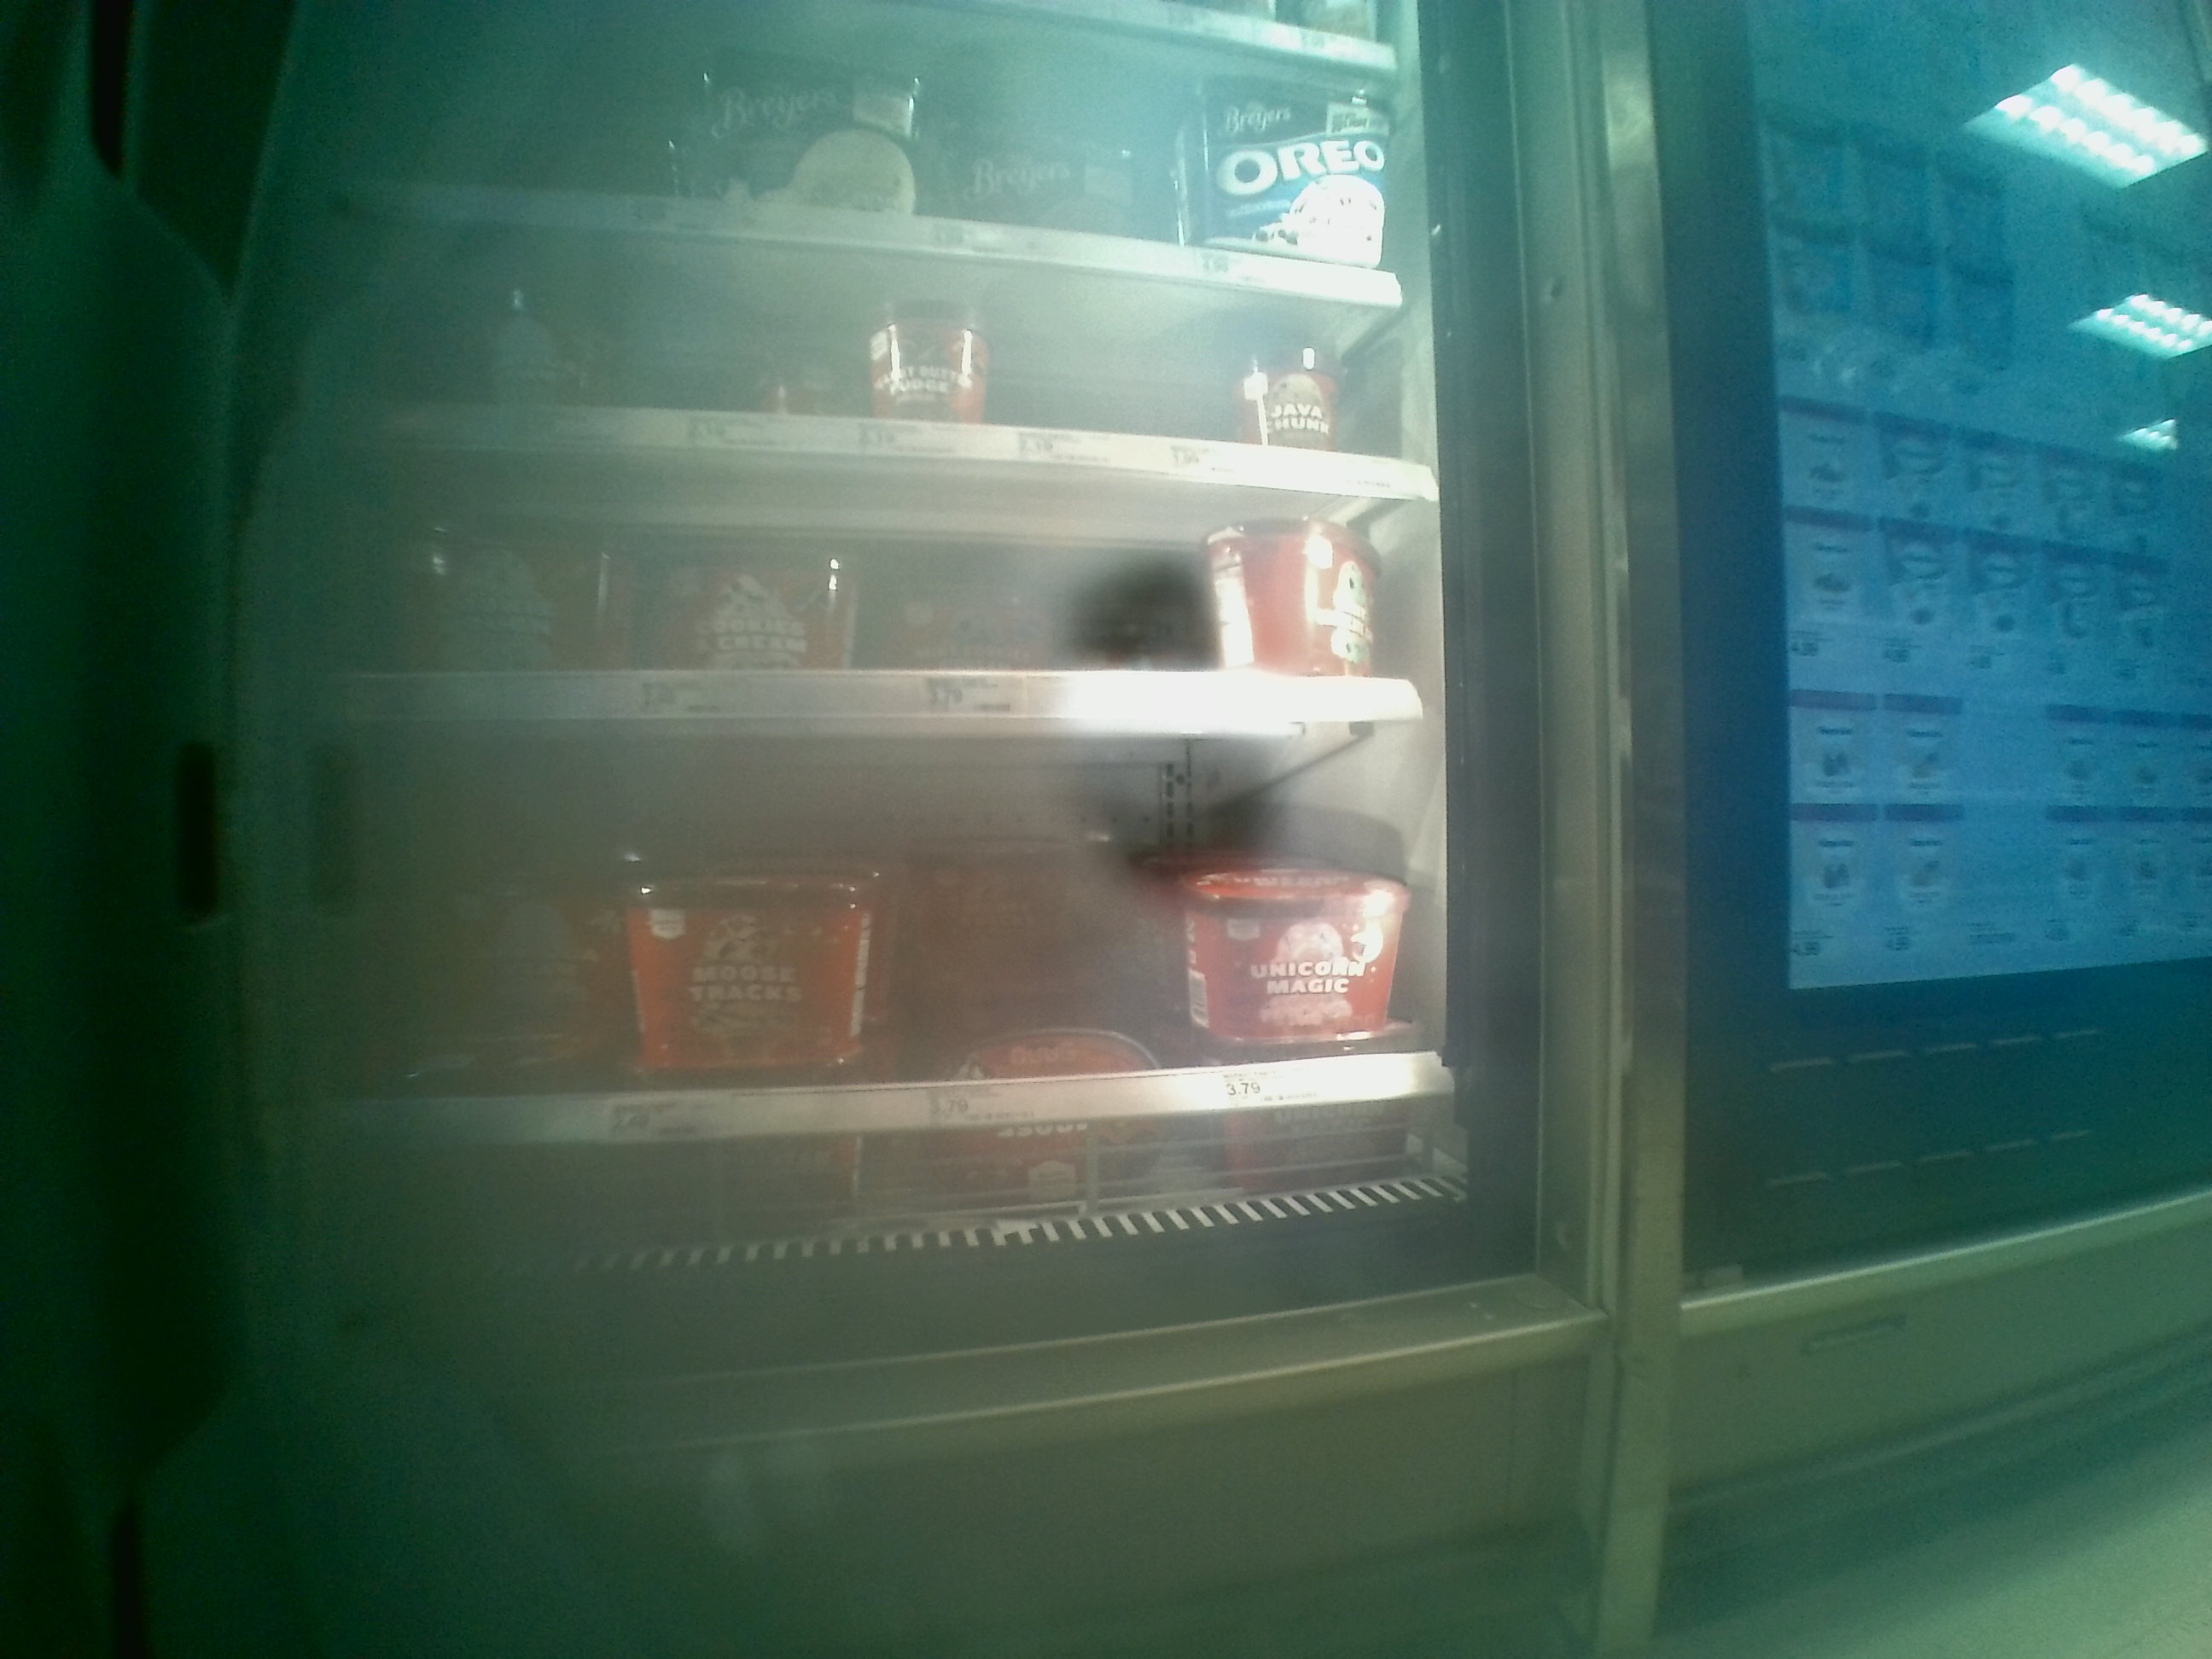shelf: (331, 727, 1463, 1229), (334, 446, 1444, 732), (366, 214, 1439, 502)
